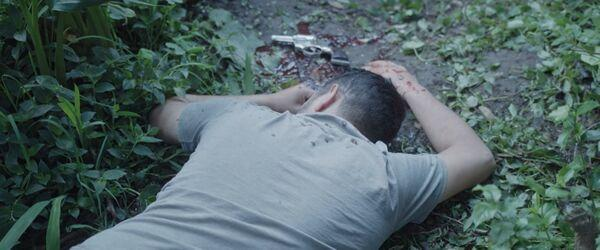Gun: (273, 32, 350, 70)
